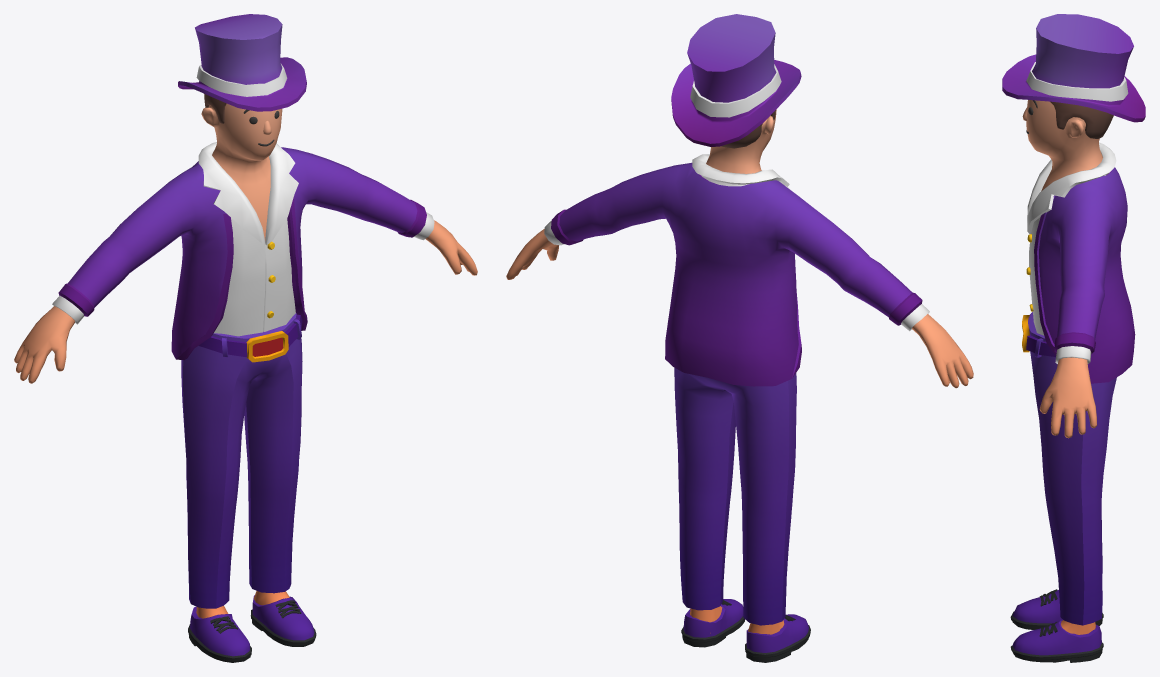
3 renders of one model, left to right at view 1: azimuth 30°, elevation 25°; view 2: azimuth 150°, elevation 25°; view 3: azimuth 270°, elevation 25°, orthographic.
Parts seen in each view (by area): view 1: Adult_Male_Jacket_36, Adult_Male_Pants_36, Adult_Male_Body_36, Adult_Male_Hat_36, Adult_Male_Shoes_36; view 2: Adult_Male_Jacket_36, Adult_Male_Pants_36, Adult_Male_Hat_36, Adult_Male_Body_36, Adult_Male_Shoes_36; view 3: Adult_Male_Jacket_36, Adult_Male_Pants_36, Adult_Male_Hat_36, Adult_Male_Body_36, Adult_Male_Shoes_36, Adult_Male_Hat_Hairstyle_36.
Boxes of the visible parts, box(x1,y1,x2,y2) form: Adult_Male_Jacket_36: box(52, 142, 434, 360); Adult_Male_Pants_36: box(181, 313, 302, 608); Adult_Male_Body_36: box(14, 103, 477, 618); Adult_Male_Hat_36: box(178, 14, 306, 111); Adult_Male_Shoes_36: box(188, 595, 316, 662); Adult_Male_Jacket_36: box(544, 154, 929, 386); Adult_Male_Pants_36: box(674, 367, 796, 625); Adult_Male_Hat_36: box(671, 14, 801, 146); Adult_Male_Body_36: box(506, 109, 973, 634); Adult_Male_Shoes_36: box(681, 599, 810, 662); Adult_Male_Jacket_36: box(1026, 142, 1135, 383); Adult_Male_Pants_36: box(1022, 312, 1116, 625); Adult_Male_Hat_36: box(1002, 14, 1145, 122); Adult_Male_Body_36: box(1022, 100, 1102, 634); Adult_Male_Shoes_36: box(1010, 589, 1103, 662); Adult_Male_Hat_Hairstyle_36: box(1050, 101, 1113, 138).
Bounding box in the file's own units: 1.43 × 1.85 × 0.3929.
2 materials, 2 textured.
